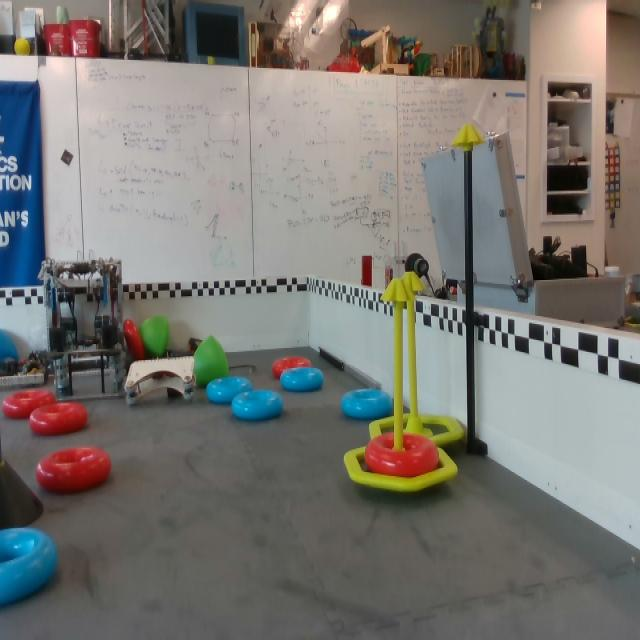Blue-Ring: (0, 527, 60, 611), (339, 387, 392, 424), (232, 391, 283, 421), (206, 377, 250, 403), (278, 368, 323, 392)
Mobile-Goal: (343, 279, 458, 492), (401, 272, 464, 448), (369, 416, 394, 440)
Red-Ring: (34, 448, 111, 496), (363, 432, 443, 476), (29, 403, 89, 435), (2, 391, 55, 419), (121, 320, 145, 361), (272, 357, 312, 380)
Yellow-Stake-Head: (380, 278, 416, 302), (450, 124, 485, 147), (403, 272, 426, 291)
